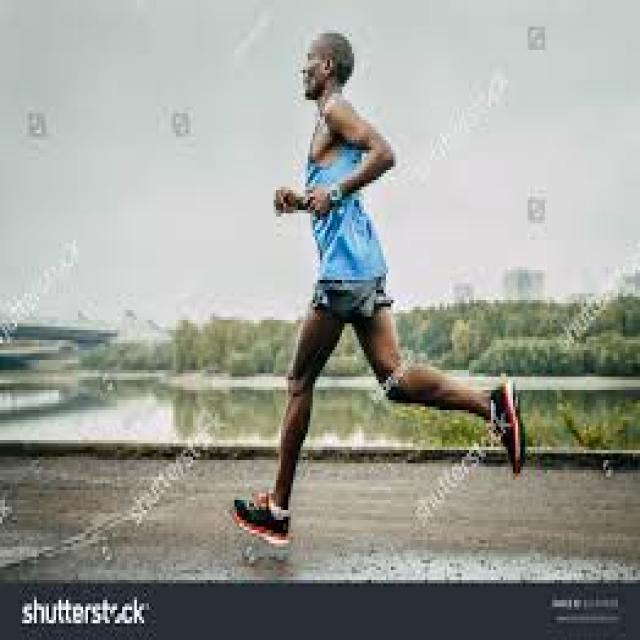running: (226, 29, 526, 547)
